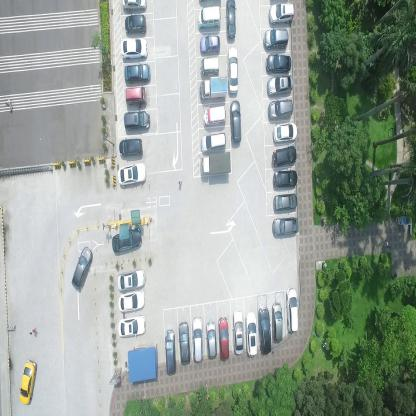car: (70, 244, 92, 291), (18, 358, 37, 406), (111, 227, 142, 254), (198, 152, 230, 176), (256, 306, 271, 354), (117, 162, 146, 186), (116, 312, 145, 336), (116, 266, 145, 289), (284, 284, 297, 332), (117, 287, 144, 310), (198, 78, 226, 100), (200, 132, 226, 155), (266, 75, 293, 97), (120, 37, 148, 58), (203, 104, 227, 128), (198, 5, 221, 30), (268, 1, 294, 23), (267, 99, 293, 121), (177, 320, 190, 364), (245, 310, 257, 357), (218, 316, 230, 362), (271, 146, 296, 168), (124, 63, 151, 83), (227, 46, 238, 95), (272, 122, 296, 144), (272, 191, 296, 213), (270, 299, 282, 343), (191, 314, 202, 361), (164, 327, 175, 374), (123, 110, 150, 129), (264, 29, 288, 50), (265, 53, 291, 72), (272, 217, 298, 236), (229, 100, 240, 144), (232, 309, 243, 353), (118, 138, 143, 156), (272, 170, 297, 188), (205, 319, 216, 359), (124, 86, 146, 105), (125, 14, 147, 33), (200, 34, 221, 53), (226, 0, 236, 39), (200, 58, 219, 75), (123, 0, 148, 12)
